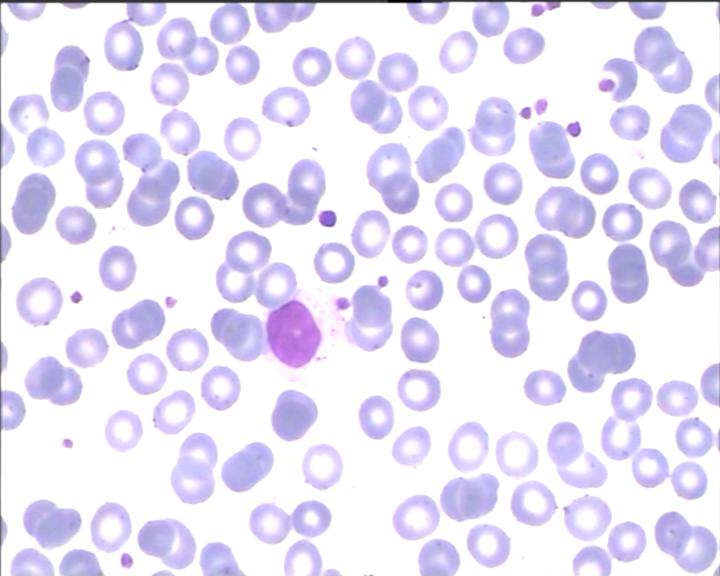mono: (252, 284, 350, 382)
